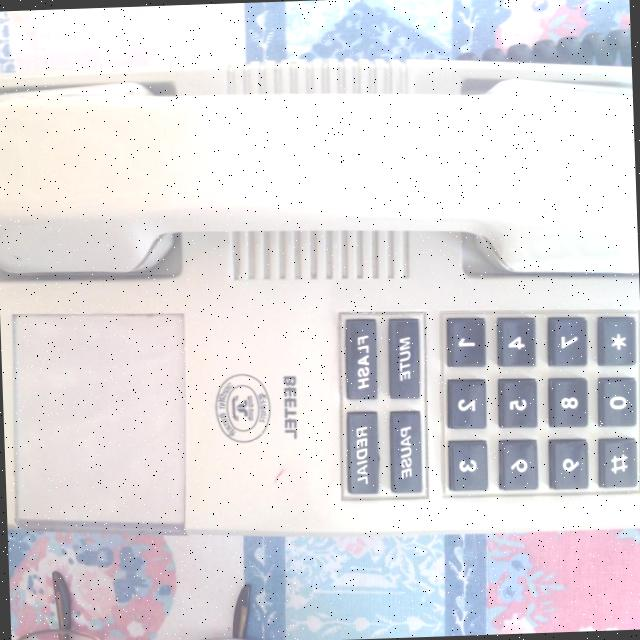Phone: (0, 35, 640, 548)
